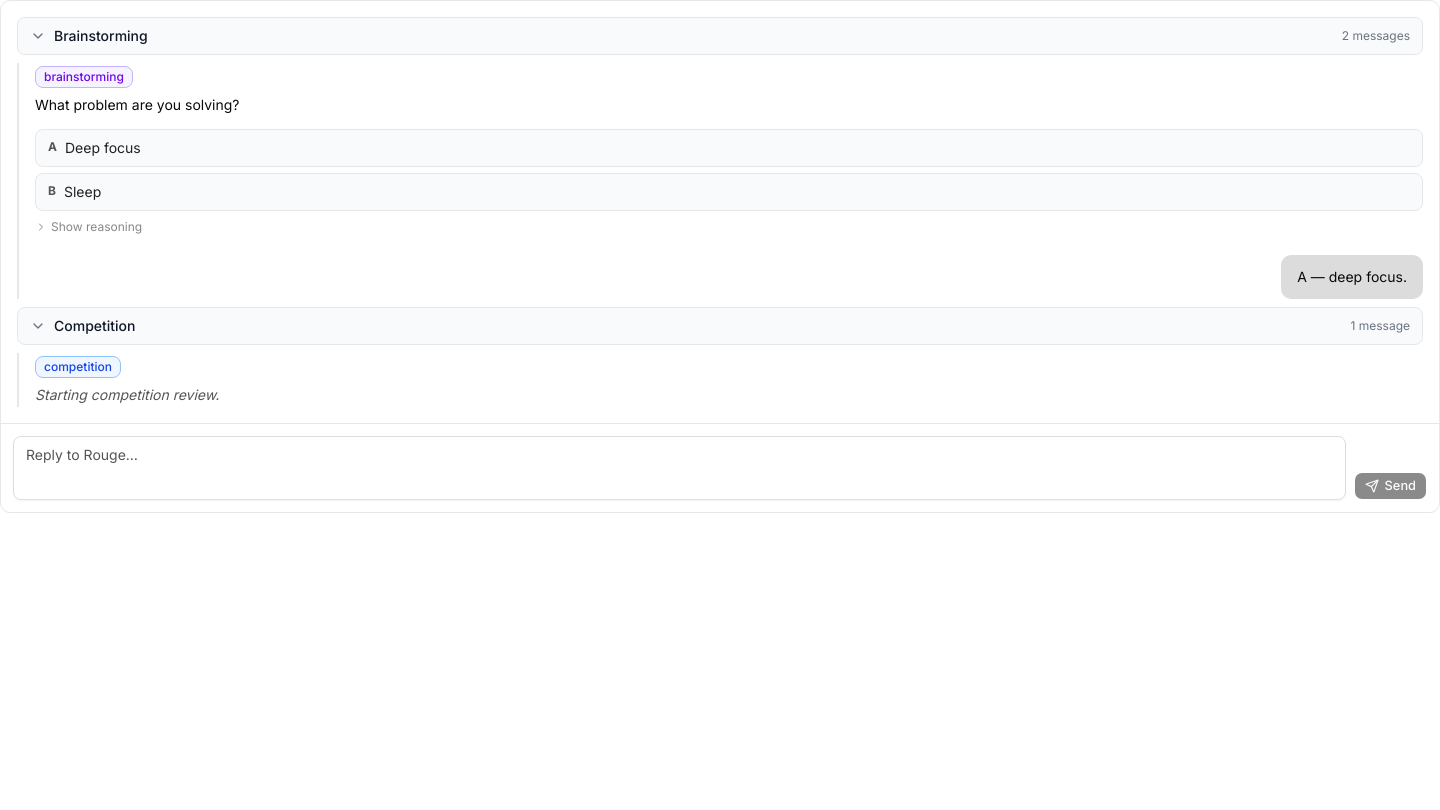
ChatPanel › shows reasoning on expand
Click the button with test id "reasoning-trigger" at (89, 227), box [35, 219, 142, 235]
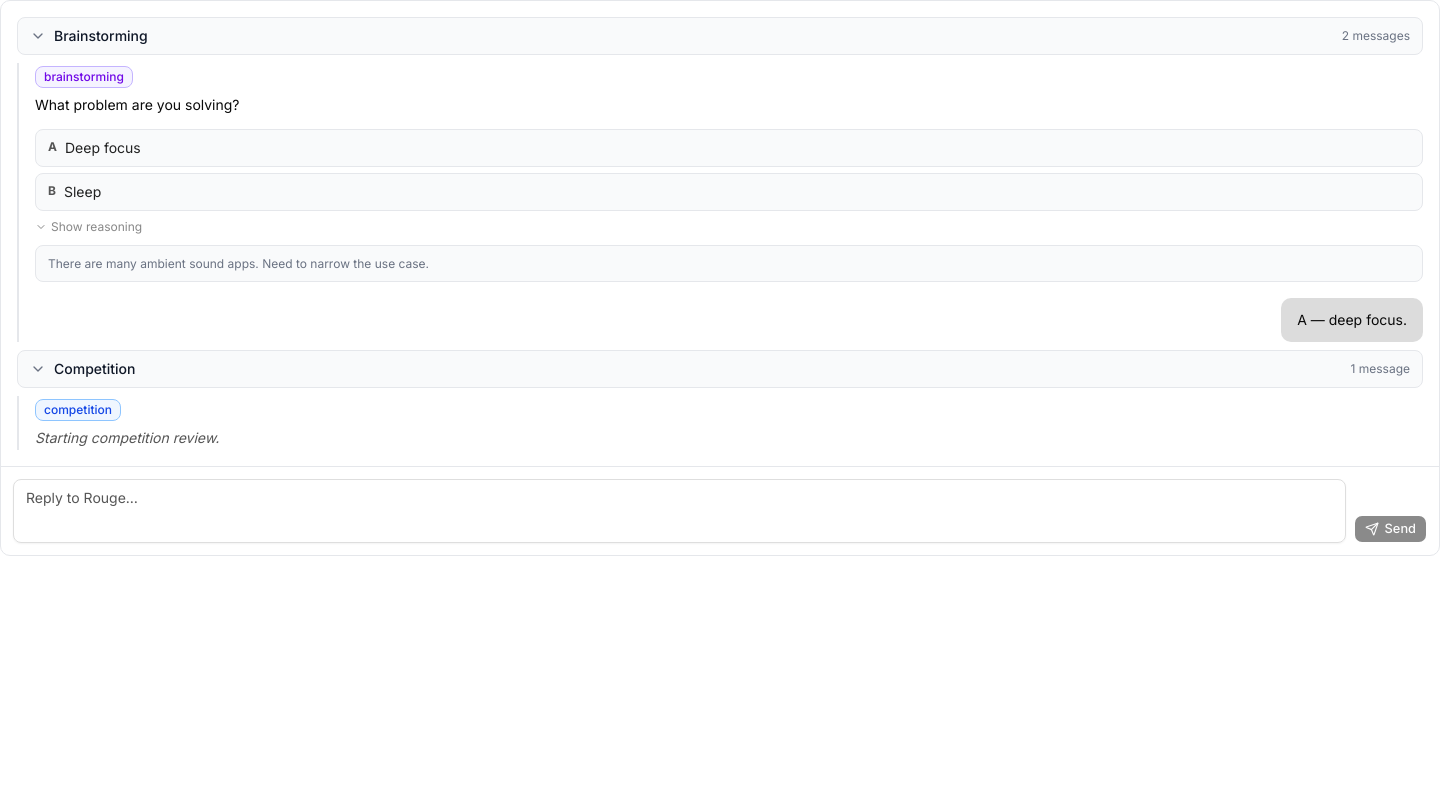
Result: the text with test id "reasoning-content" is shown at [35, 245, 1423, 282]
Result: the text with test id "reasoning-content" shows "There are many ambient sound apps" at [48, 256, 429, 271]
